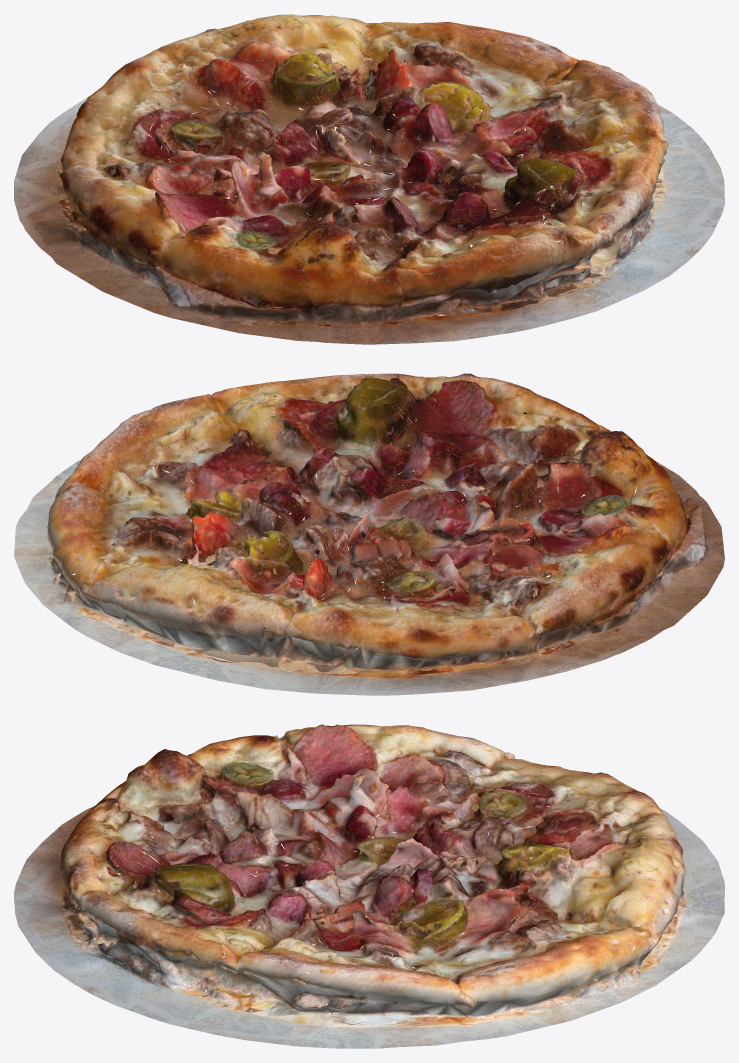
File: pizza-big-boss.glb
The picture shows the model from 3 angles, top to bottom: view 1: azimuth 30°, elevation 25°; view 2: azimuth 150°, elevation 25°; view 3: azimuth 270°, elevation 25°; orthographic projection.
Parts seen in each view (by area): view 1: decMesh_pizza_0, decMesh_pizza_1; view 2: decMesh_pizza_0, decMesh_pizza_1; view 3: decMesh_pizza_0, decMesh_pizza_1.
Part boxes in pixels (x1,y1,x2,y2): decMesh_pizza_0: [14, 14, 724, 344]; decMesh_pizza_1: [48, 15, 700, 304]; decMesh_pizza_0: [14, 373, 724, 695]; decMesh_pizza_1: [59, 374, 655, 669]; decMesh_pizza_0: [14, 724, 724, 1048]; decMesh_pizza_1: [67, 724, 676, 1028].
Size of the model in its own units: 0.3992 by 0.0482 by 0.3983.
1 material, 1 textured.
